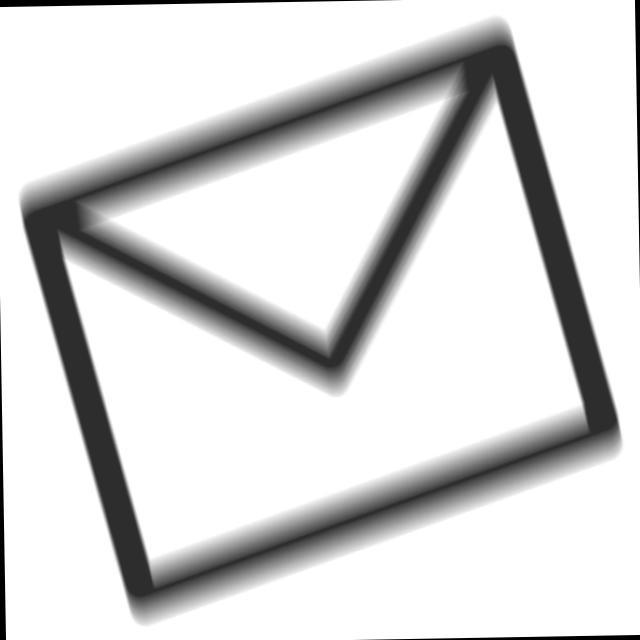letter: (7, 8, 638, 633)
